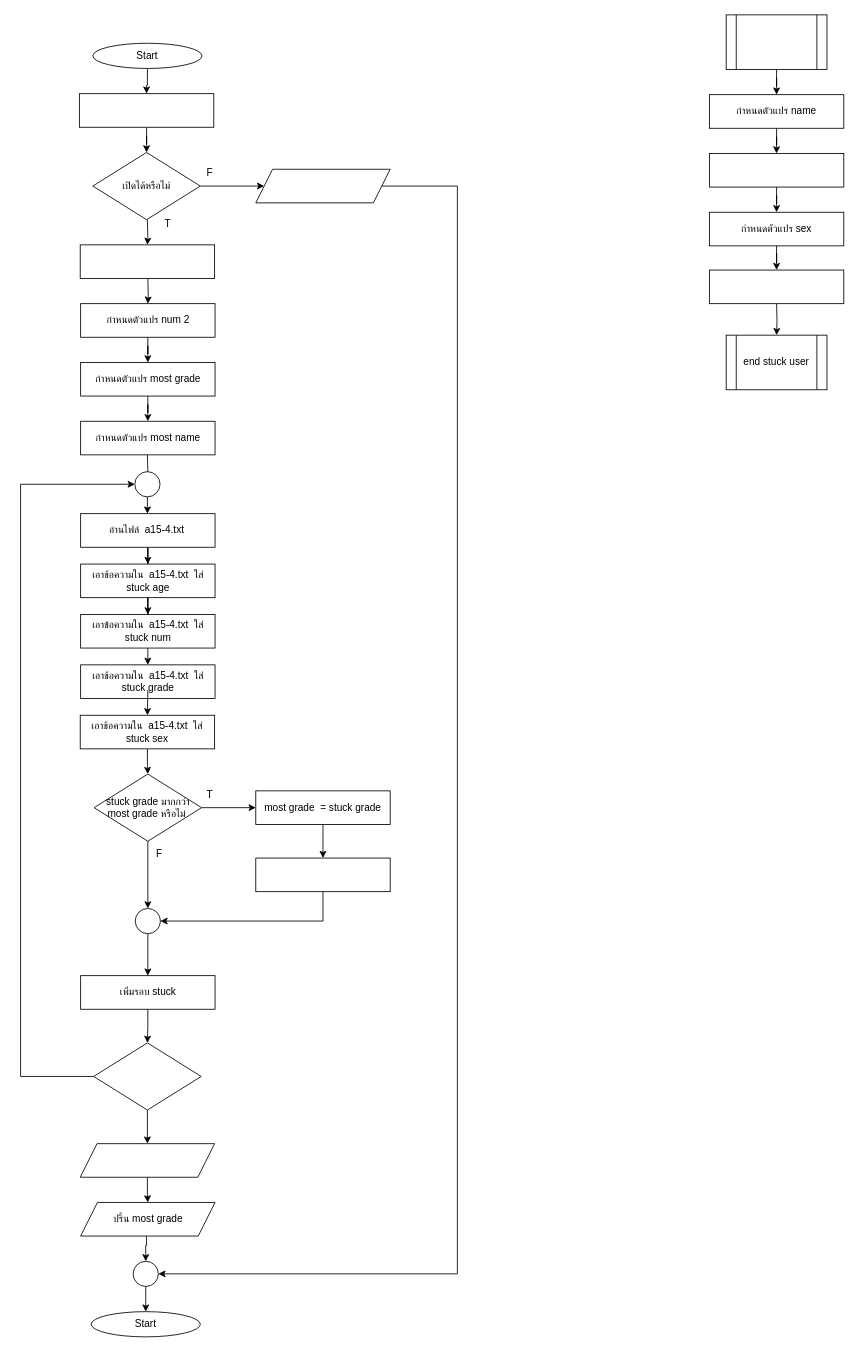
Some shapes in this 858 by 1352 pixel diagram are drawn without their labels. The shapes that lost their labels are listed below. From the top down, each one's box as (x1, y1, x2, y2) in pixels, then its label:
(725, 14, 827, 69): start stuck user
(79, 93, 214, 127): เปิดไฟล์ a15-4.txt
(255, 168, 390, 203): Err
(709, 153, 844, 187): กำหนดตัวแปร grade
(79, 244, 215, 278): กำหนดตัวแปร num 1
(709, 269, 844, 304): กำหนดตัวแปร Age
(255, 857, 390, 892): most name = stuck name
(93, 1042, 201, 1110): อ่านครบหรือไม่
(79, 1143, 215, 1177): ปริ้น most name
